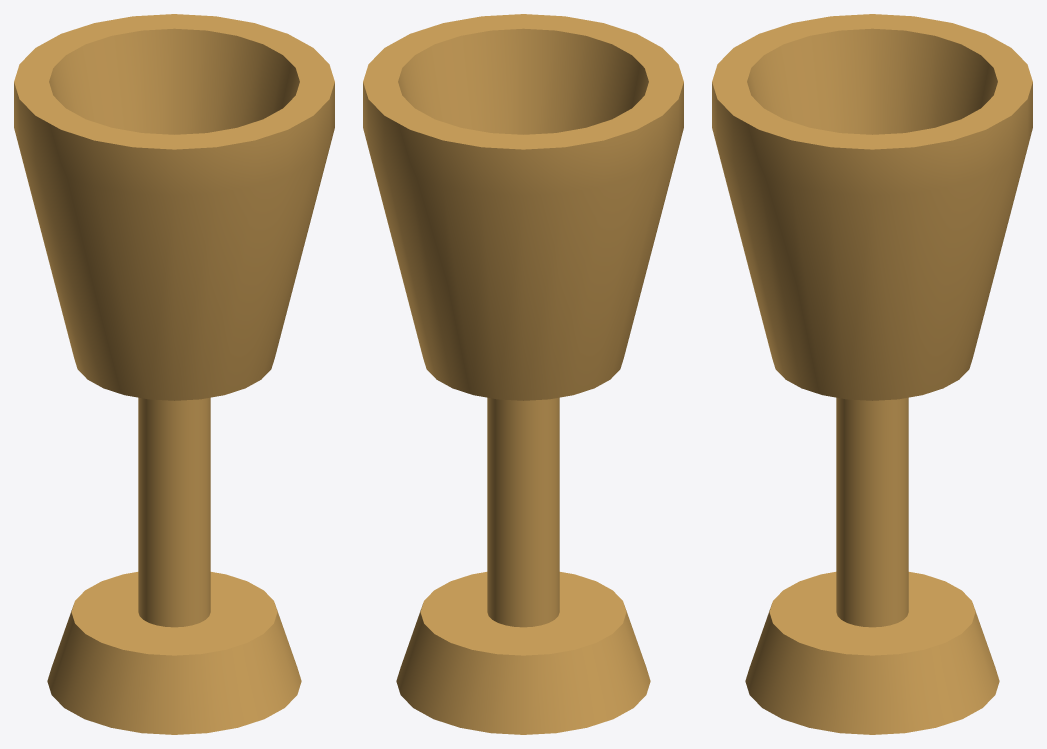
Rendered from d_kenney_calice.glb.
The picture shows the model from 3 angles, left to right: view 1: azimuth 30°, elevation 25°; view 2: azimuth 150°, elevation 25°; view 3: azimuth 270°, elevation 25°; orthographic projection.
Parts seen in each view (by area): view 1: d_kenney_calice; view 2: d_kenney_calice; view 3: d_kenney_calice.
Boxes of the visible parts, box(x1,y1,x2,y2) form: d_kenney_calice: box(14, 14, 334, 734); d_kenney_calice: box(363, 14, 683, 734); d_kenney_calice: box(712, 14, 1032, 734).
Bounding box in the file's own units: 0.0968 × 0.1995 × 0.0968.
Materials: 1 (1 with a texture image).
